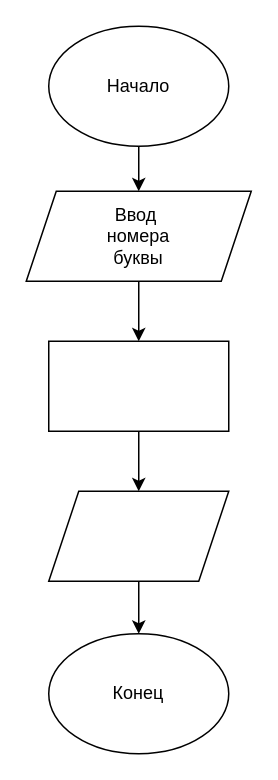
Image size: 278x780. Some labels were removed from this diagram. Here are the shapes that lost their labels. From the top down, the centre of each, then its label:
(x=138, y=385): Определение буквы по номеру
(x=138, y=535): Вывод результата
